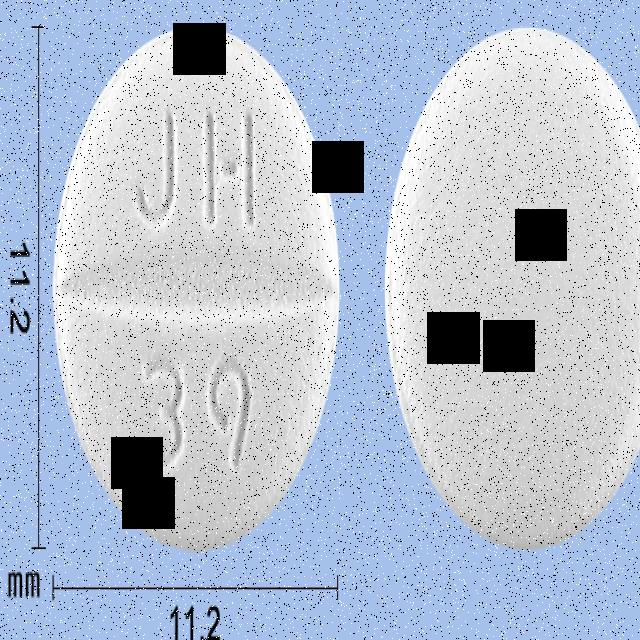Ciflox: (49, 15, 344, 556)
